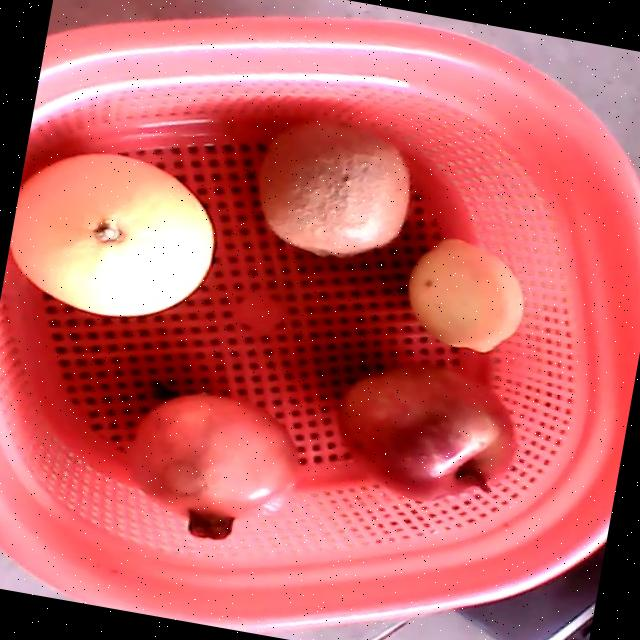kiwi: (256, 119, 408, 255)
lemon: (408, 239, 522, 353)
orange: (9, 152, 212, 316)
pomegranate: (336, 362, 520, 502), (126, 393, 297, 539)
